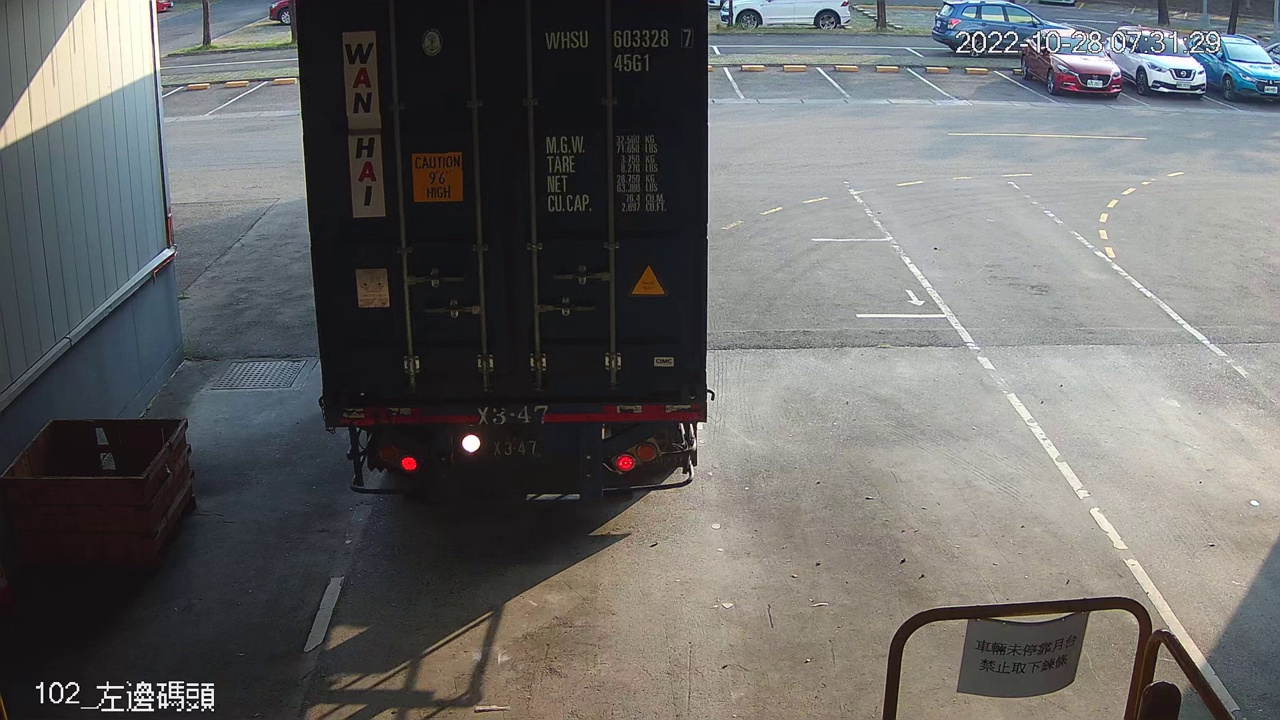container: (537, 22, 699, 78)
